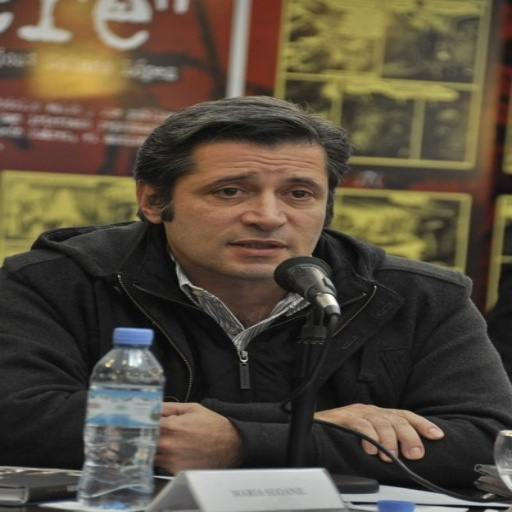hand: (274, 395, 447, 469), (136, 400, 239, 476)
